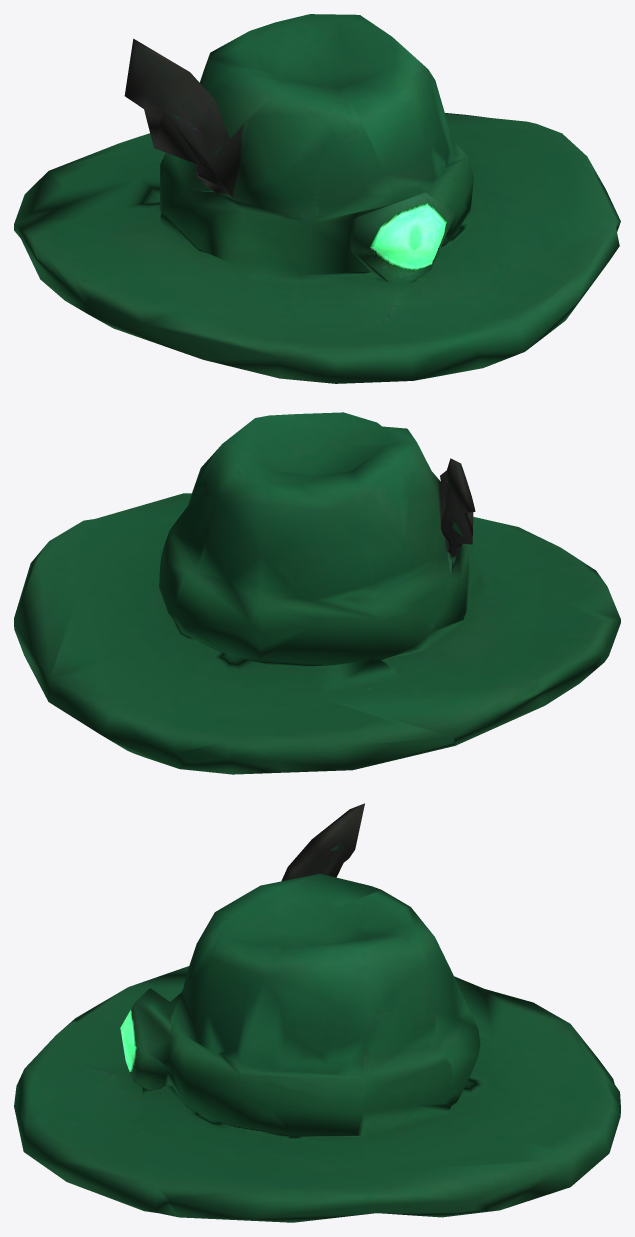
The model's file is hat_hunterHat-BkcpjvAB.glb.
3 views of the same model, one above another, from view 1: azimuth 30°, elevation 25°; view 2: azimuth 150°, elevation 25°; view 3: azimuth 270°, elevation 25° (orthographic).
Visible parts, largest first — view 1: tripo_node_8688e311-c0d0-41bf-9e24-d89fd2406690; view 2: tripo_node_8688e311-c0d0-41bf-9e24-d89fd2406690; view 3: tripo_node_8688e311-c0d0-41bf-9e24-d89fd2406690.
Boxes of the visible parts, left/top/right/bottom form: tripo_node_8688e311-c0d0-41bf-9e24-d89fd2406690: left=14, top=14, right=620, bottom=383; tripo_node_8688e311-c0d0-41bf-9e24-d89fd2406690: left=14, top=412, right=620, bottom=774; tripo_node_8688e311-c0d0-41bf-9e24-d89fd2406690: left=14, top=803, right=620, bottom=1222.
Bounding box in the file's own units: 0.9841 × 0.4559 × 1.
Materials: 1 (1 with a texture image).
